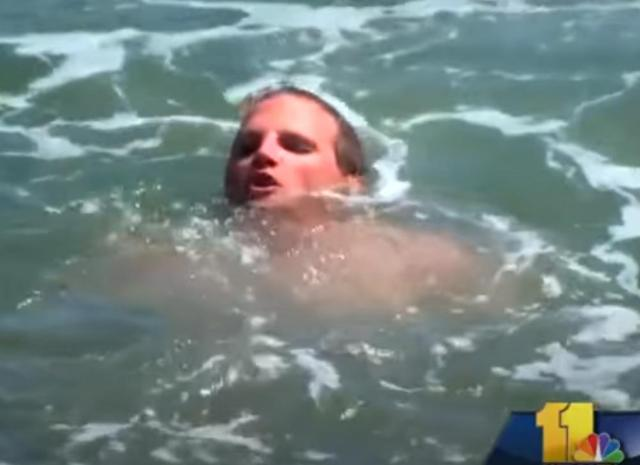drowning: (203, 41, 387, 275)
